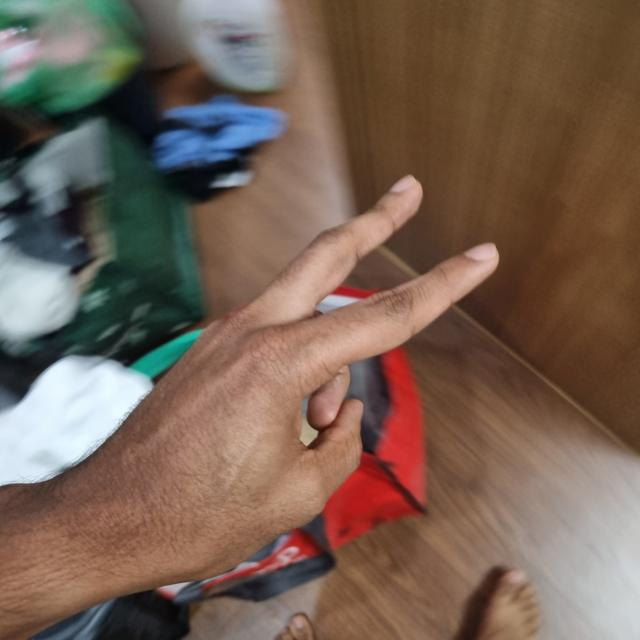Scissors: (52, 176, 502, 600)
